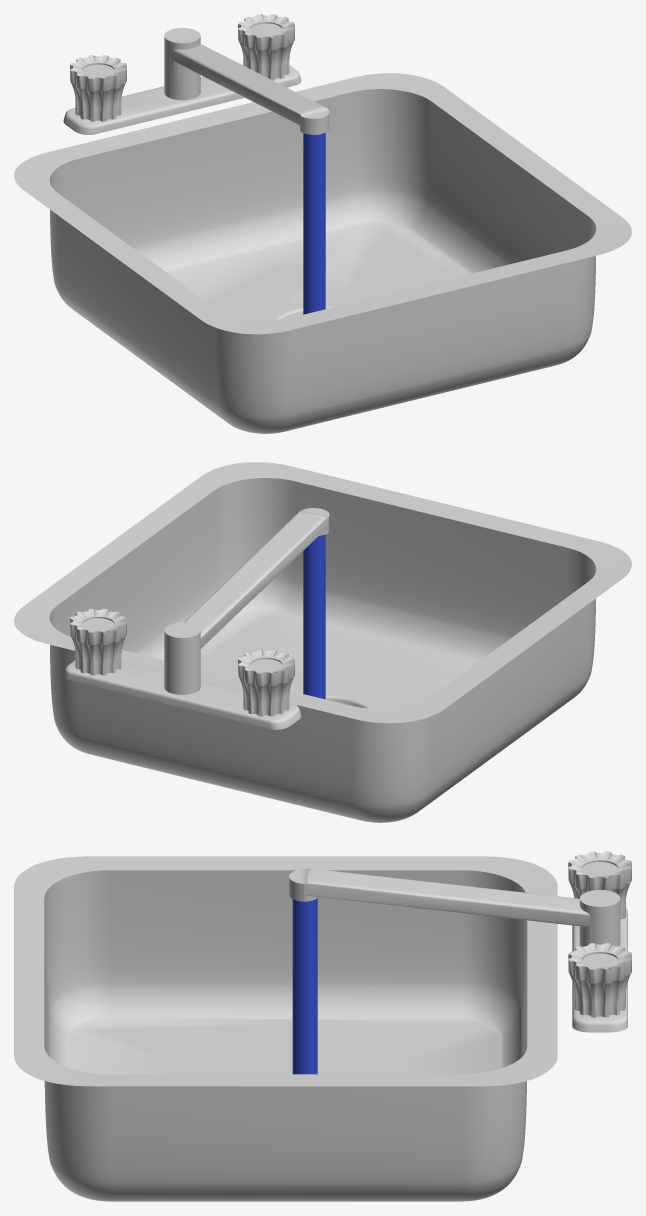
File: water.glb
3 views of the same model, one above another, from view 1: azimuth 30°, elevation 25°; view 2: azimuth 150°, elevation 25°; view 3: azimuth 270°, elevation 25° (orthographic). The views are drawn at different scales.
Parts seen in each view (by area): view 1: Material2.002, Material2.005, Material3; view 2: Material2.002, Material2.005, Material3; view 3: Material2.002, Material2.005, Material3.
Part boxes in pixels (x1,y1,x2,y2): Material2.002: (14,22,631,433); Material2.005: (70,14,294,113); Material3: (303,132,325,314); Material2.002: (14,462,631,822); Material2.005: (70,608,294,708); Material3: (303,534,325,699); Material2.002: (14,856,627,1201); Material2.005: (568,851,631,1008); Material3: (292,898,317,1074).
Bounding box in the file's own units: 20.06 × 10.77 × 22.8.
